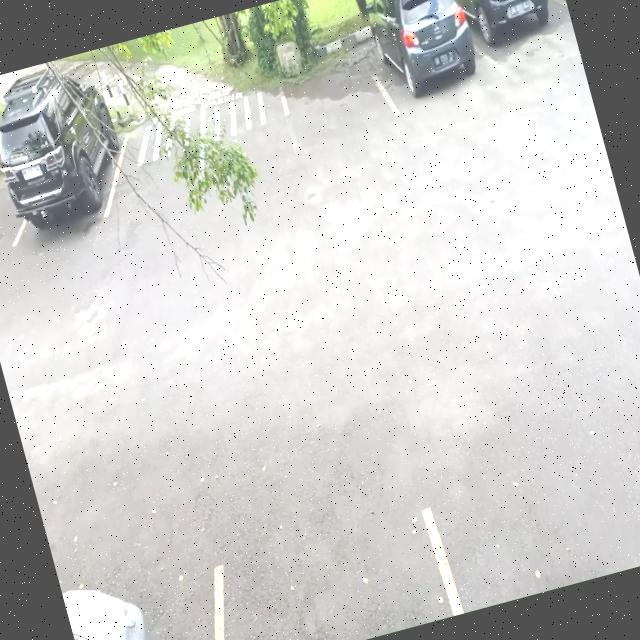empty: (270, 32, 394, 154), (0, 161, 25, 259)
occupied: (0, 84, 132, 238), (357, 0, 489, 117), (447, 0, 571, 81)
